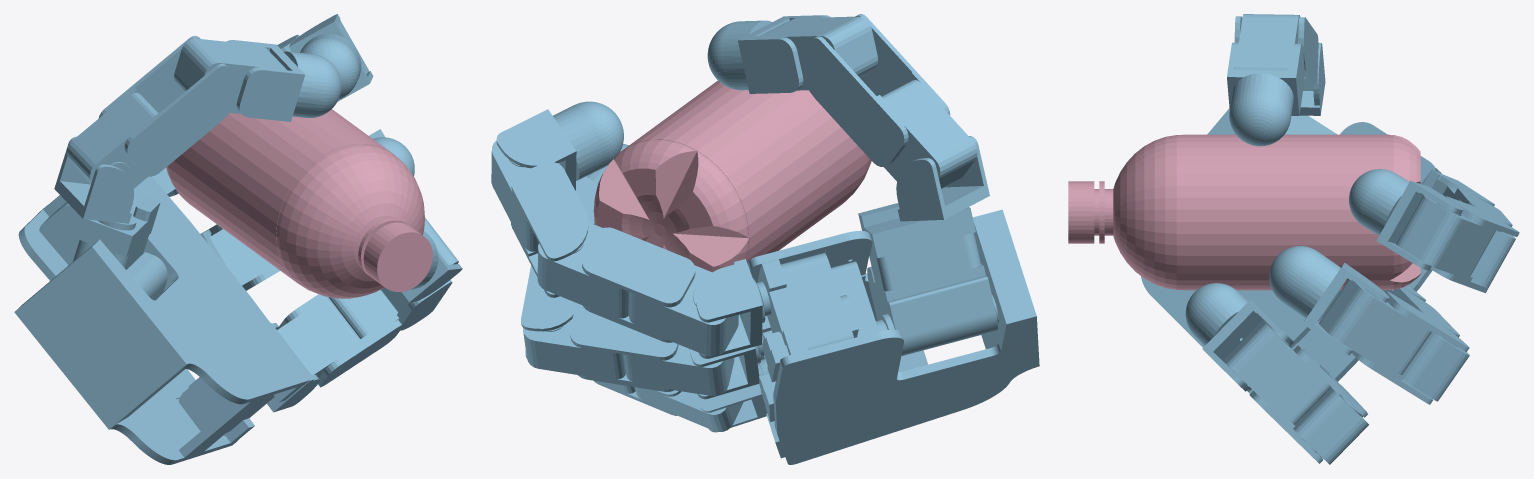
3 views of the same model, side by side, from view 1: azimuth 30°, elevation 25°; view 2: azimuth 150°, elevation 25°; view 3: azimuth 270°, elevation 25° (orthographic). The views are drawn at different scales.
Visible parts, largest first — view 1: world; view 2: world; view 3: world.
Boxes of the visible parts, bbox=[...] form: world: bbox=[14, 14, 462, 464]; world: bbox=[491, 14, 1039, 464]; world: bbox=[1068, 14, 1519, 464].
Size of the model in its own units: 0.1888 by 0.1692 by 0.1748.
